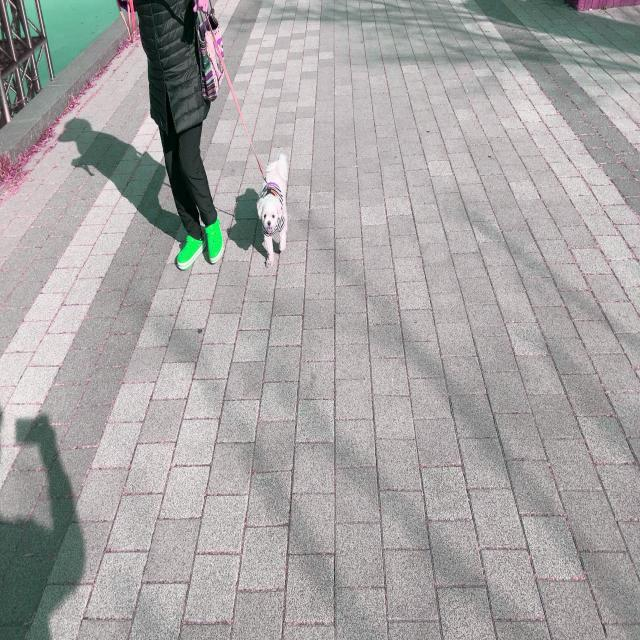Leashed_Dog: (191, 1, 291, 270)
